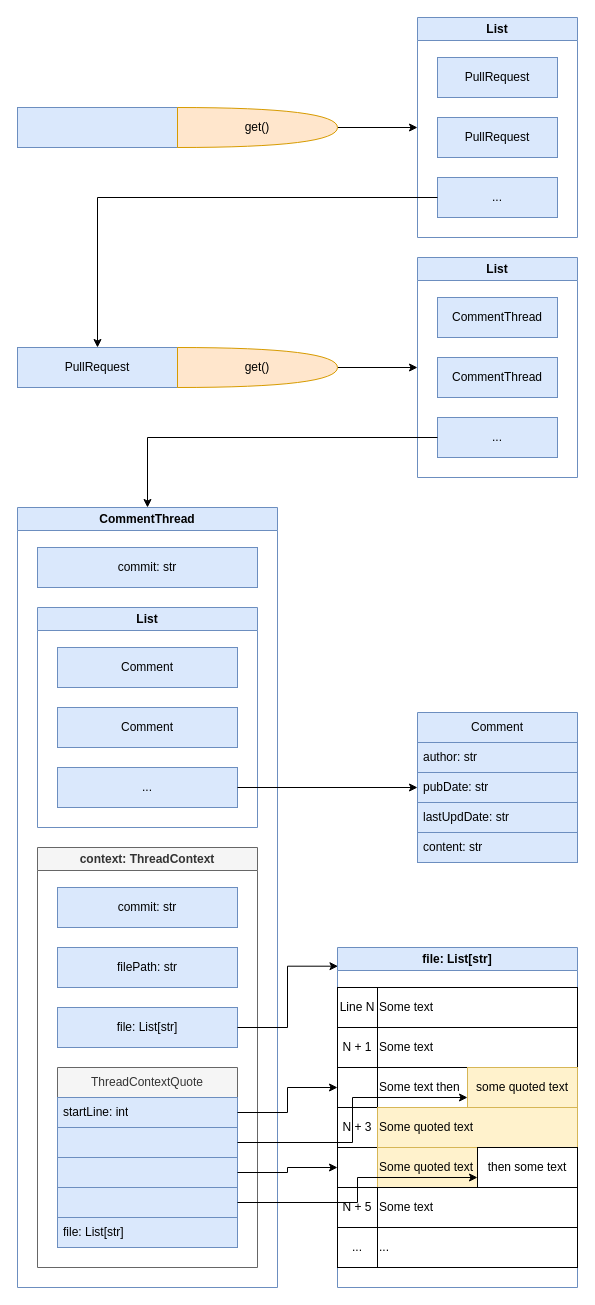
The diagram is 595 pixels wide and 1305 high, and some of its shapes have lost their labels. The centre of each missing label's shape, as x and y in pixels:
"endLine: int" goes at pixel 147 1172.
"endOff: int" goes at pixel 147 1202.
"N + 2" goes at pixel 357 1087.
"N + 4" goes at pixel 357 1167.
"Repository" goes at pixel 97 127.
"startOff: int" goes at pixel 147 1142.
